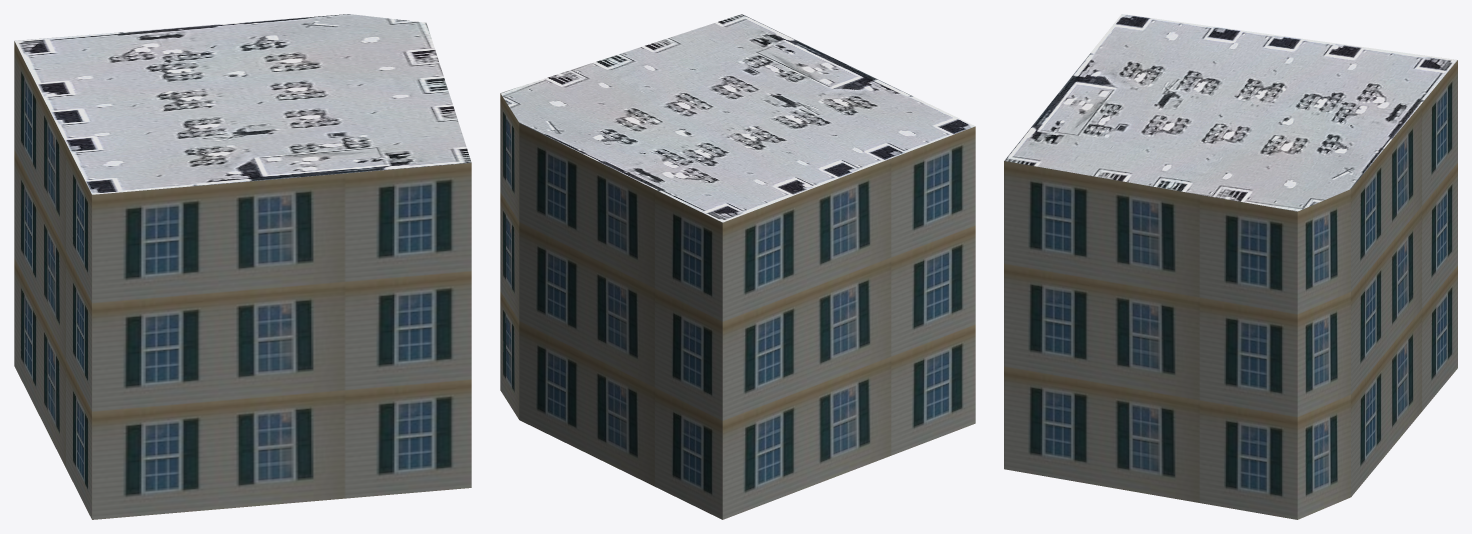
Rendered from ResTex__4801.fbx.
The picture shows the model from 3 angles, left to right: view 1: azimuth 30°, elevation 25°; view 2: azimuth 150°, elevation 25°; view 3: azimuth 270°, elevation 25°; orthographic projection. The views are drawn at different scales.
Visible parts, largest first — view 1: CityEngineMaterial_7_m, CityEngineMaterial_2_m; view 2: CityEngineMaterial_7_m, CityEngineMaterial_2_m; view 3: CityEngineMaterial_7_m, CityEngineMaterial_2_m.
Boxes of the visible parts, x1=… form: CityEngineMaterial_7_m: x1=14, y1=41, x2=471, y2=519; CityEngineMaterial_2_m: x1=14, y1=14, x2=471, y2=194; CityEngineMaterial_7_m: x1=500, y1=93, x2=975, y2=519; CityEngineMaterial_2_m: x1=500, y1=14, x2=975, y2=222; CityEngineMaterial_7_m: x1=1004, y1=60, x2=1457, y2=519; CityEngineMaterial_2_m: x1=1004, y1=14, x2=1457, y2=211.
Bounding box in the file's own units: 12.37 × 9 × 12.
2 materials, 2 textured.
